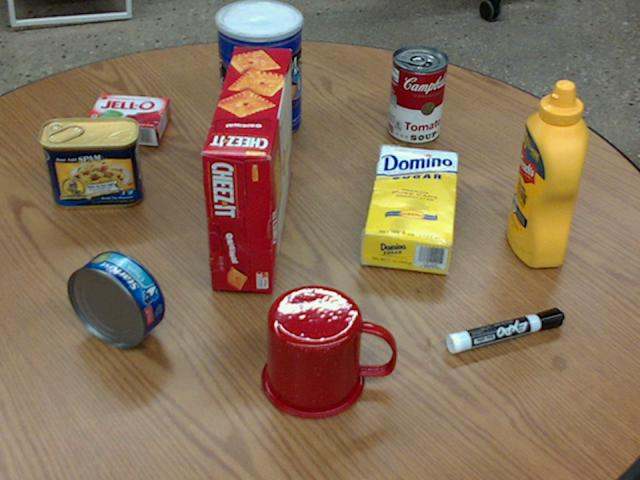cracker_box: (200, 46, 292, 293)
gelatin_box: (82, 92, 168, 142)
large_marker: (447, 308, 564, 353)
master_chef_can: (214, 0, 300, 139)
mug: (262, 284, 395, 418)
mustard_bottle: (507, 81, 587, 266)
potted_meat_can: (39, 116, 142, 206)
sugar_box: (361, 146, 458, 271)
tomato_soup_can: (387, 44, 448, 143)
tuna_fish_can: (68, 251, 165, 347)
